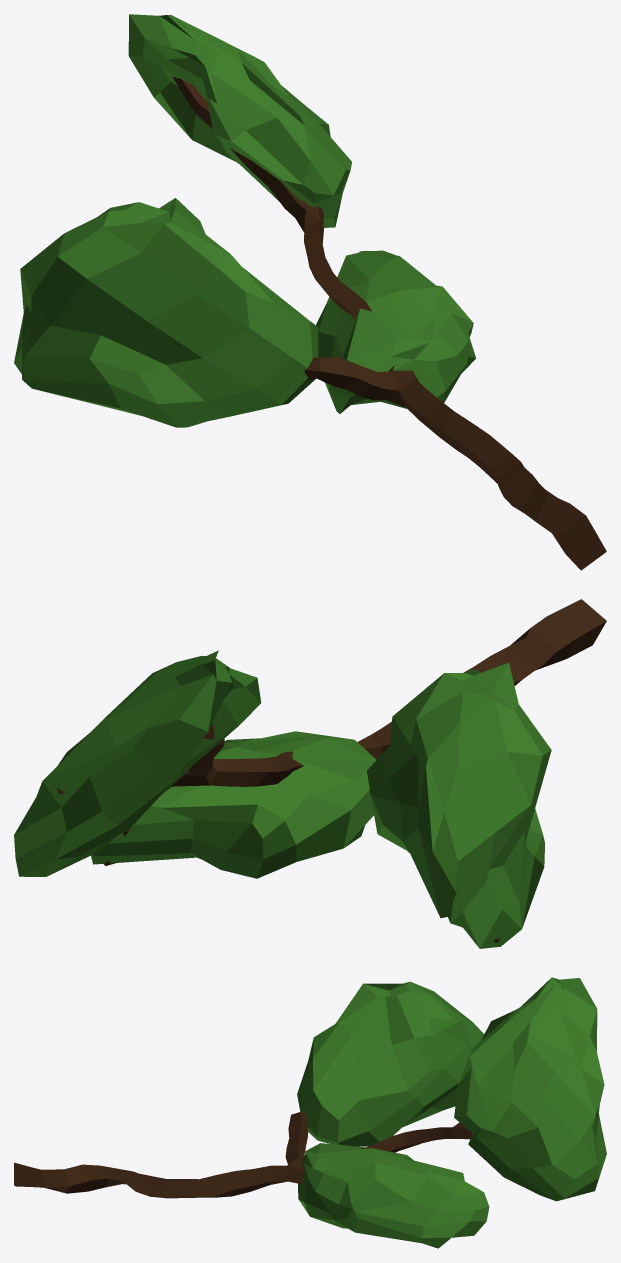
File: Branch_004.fbx
The picture shows the model from 3 angles, top to bottom: view 1: azimuth 30°, elevation 25°; view 2: azimuth 150°, elevation 25°; view 3: azimuth 270°, elevation 25°; orthographic projection. The views are drawn at different scales.
Visible parts, largest first — view 1: branch_004; view 2: branch_004; view 3: branch_004.
Boxes of the visible parts, x1=… form: branch_004: x1=14, y1=14, x2=606, y2=570; branch_004: x1=14, y1=599, x2=606, y2=948; branch_004: x1=14, y1=977, x2=606, y2=1248.
Size of the model in its own units: 148 by 105 by 259.
